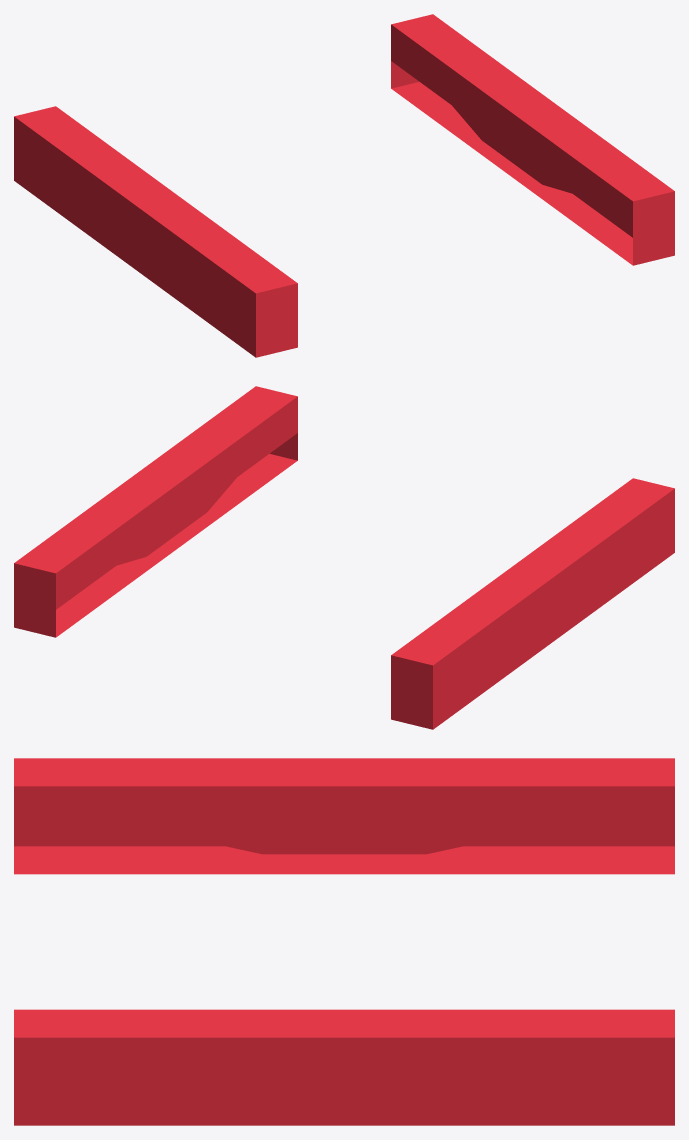
File: Crest pared.FBX
The picture shows the model from 3 angles, top to bottom: view 1: azimuth 30°, elevation 25°; view 2: azimuth 150°, elevation 25°; view 3: azimuth 270°, elevation 25°; orthographic projection. The views are drawn at different scales.
Visible parts, largest first — view 1: crest; view 2: crest; view 3: crest.
Boxes of the visible parts, x1,y1,x2,y2 form: crest: (14,14,674,357); crest: (14,386,674,729); crest: (14,758,674,1125).
Size of the model in its own units: 99.99 by 14.67 by 99.99.
